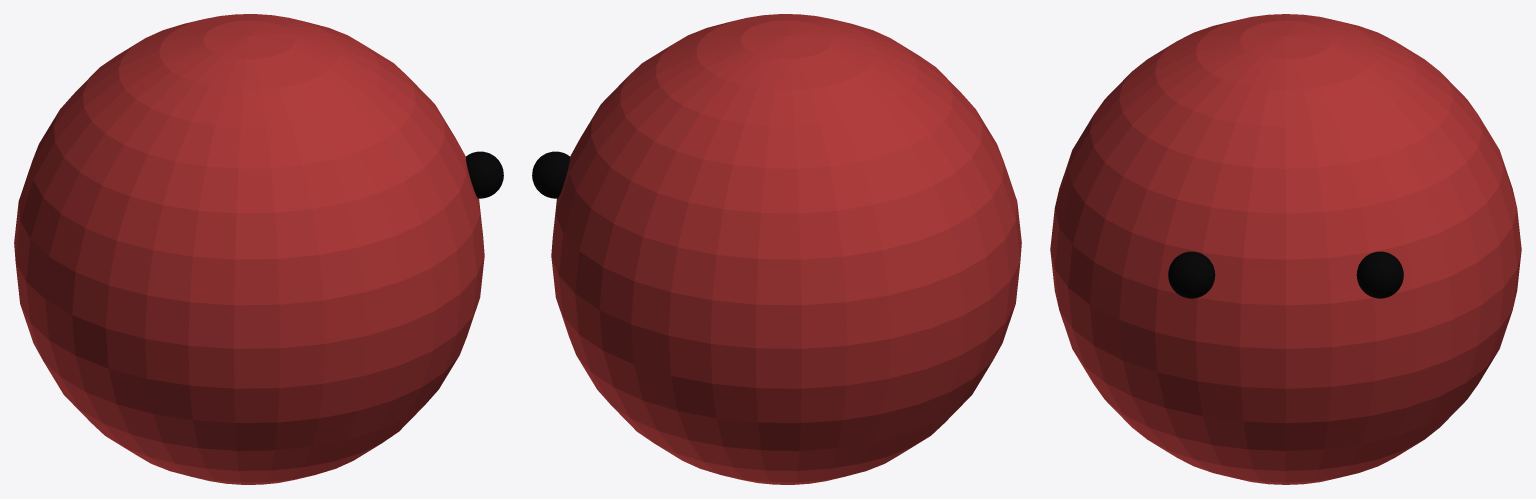
File: playerRight.obj
3 renders of one model, left to right at view 1: azimuth 30°, elevation 25°; view 2: azimuth 150°, elevation 25°; view 3: azimuth 270°, elevation 25°, orthographic.
Visible parts, largest first — view 1: 胴体, 眼球L; view 2: 胴体, 眼球R; view 3: 胴体, 眼球L, 眼球R.
Boxes of the visible parts, bbox=[...] form: 胴体: bbox=[14, 14, 484, 484]; 眼球L: bbox=[466, 151, 503, 198]; 胴体: bbox=[551, 14, 1021, 484]; 眼球R: bbox=[532, 151, 569, 198]; 胴体: bbox=[1050, 14, 1521, 484]; 眼球L: bbox=[1168, 251, 1215, 298]; 眼球R: bbox=[1356, 251, 1403, 298].
Size of the model in its own units: 2 by 2 by 2.
Materials: 1 (1 with a texture image).
